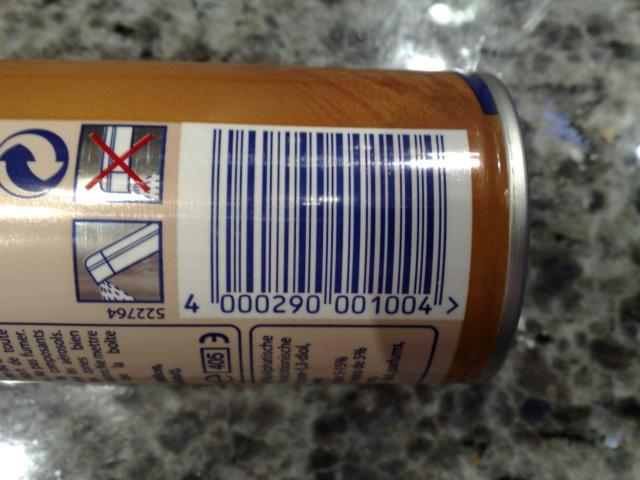Barcode: (178, 123, 470, 321)
